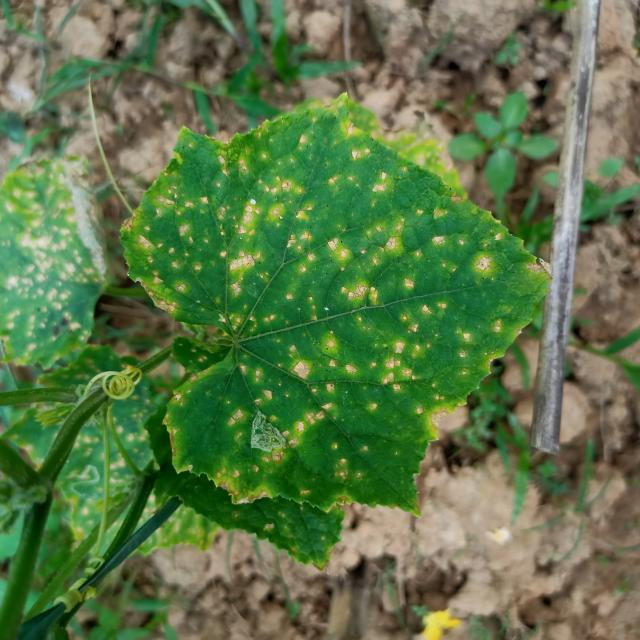disease_cucumber: (145, 113, 538, 499)
